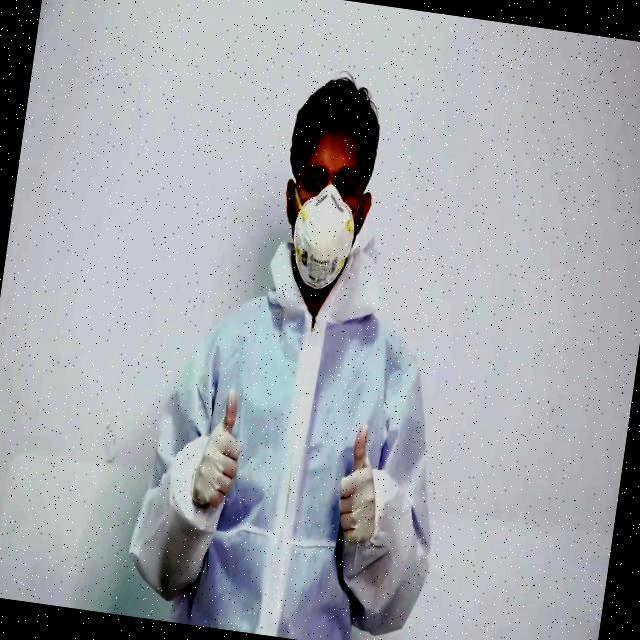apron: (322, 418, 383, 556), (196, 392, 256, 516)
